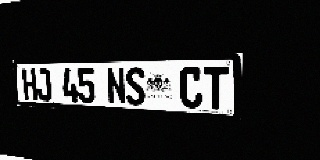4: (61, 68, 79, 103)
5: (77, 68, 96, 103)
C: (179, 67, 203, 109)
H: (22, 69, 38, 101)
J: (35, 69, 52, 101)
N: (106, 68, 126, 105)
S: (125, 67, 146, 106)
T: (203, 66, 228, 110)
